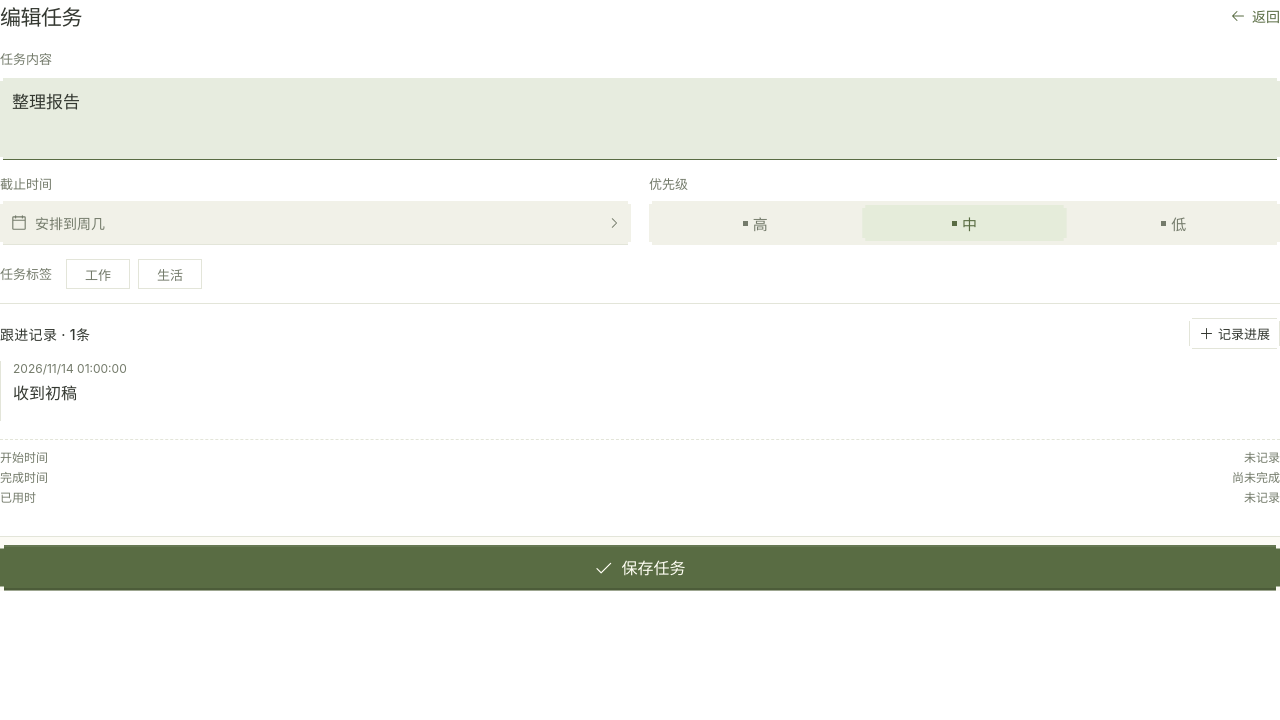
Scenario: appends timestamped steps without replacing previous content
Expected: the element labelled "跟进记录" shows "收到初稿", [13,383,77,403]
Step 1. Click the button "记录进展" → (1234, 334), box [1189,318,1279,349]
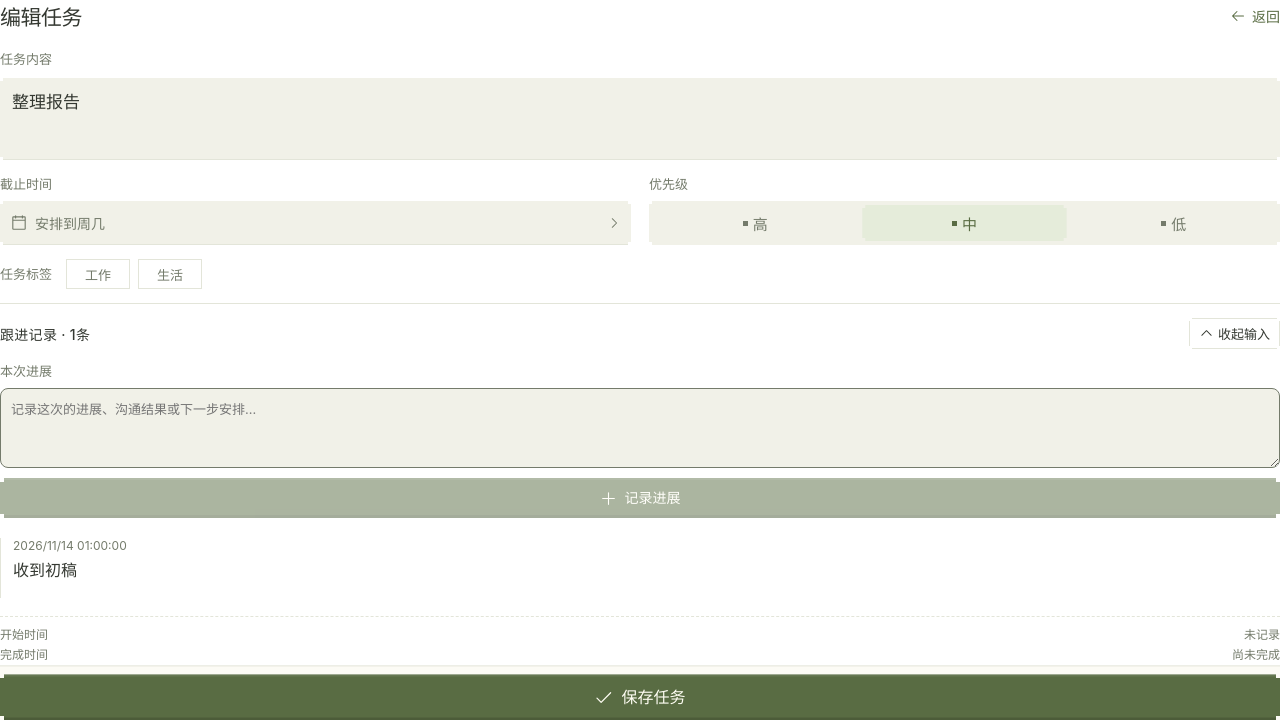
Step 2. Type "  补齐数据  " into the text box labelled "本次进展" → (640, 428), box [0,388,1279,468]
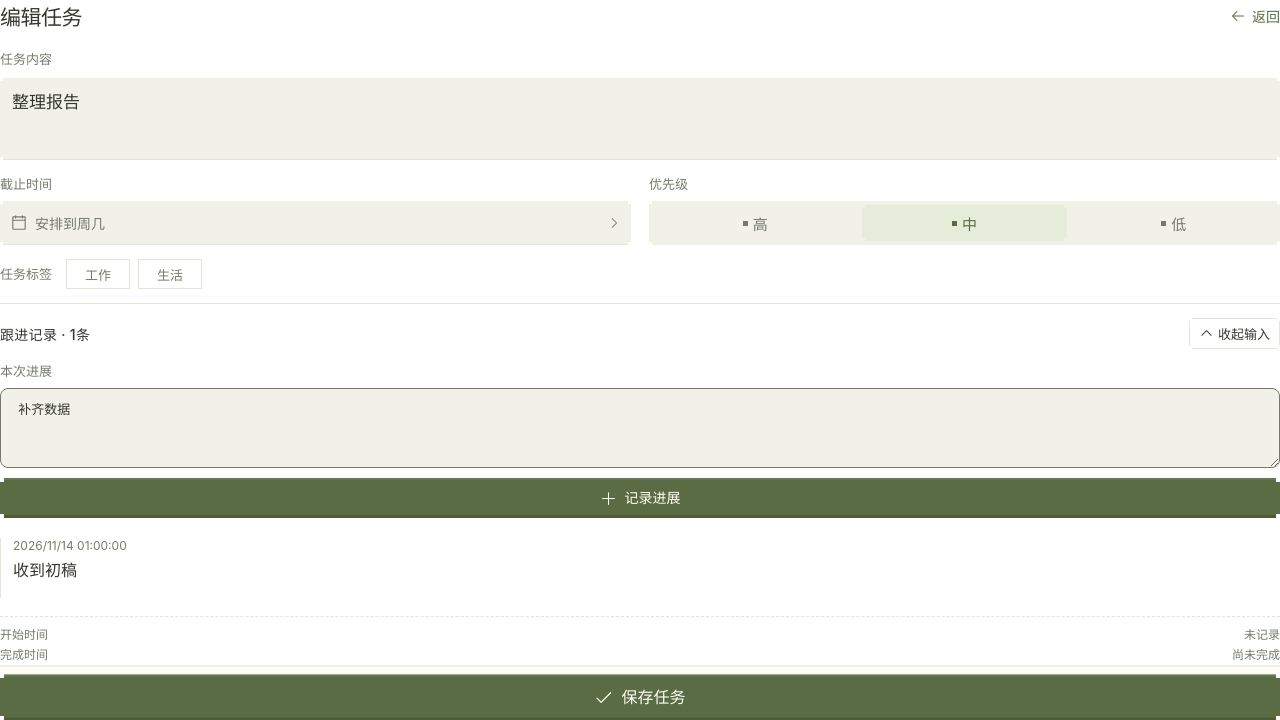
Step 3. Click the button "记录进展" → (640, 498), box [0,478,1279,518]
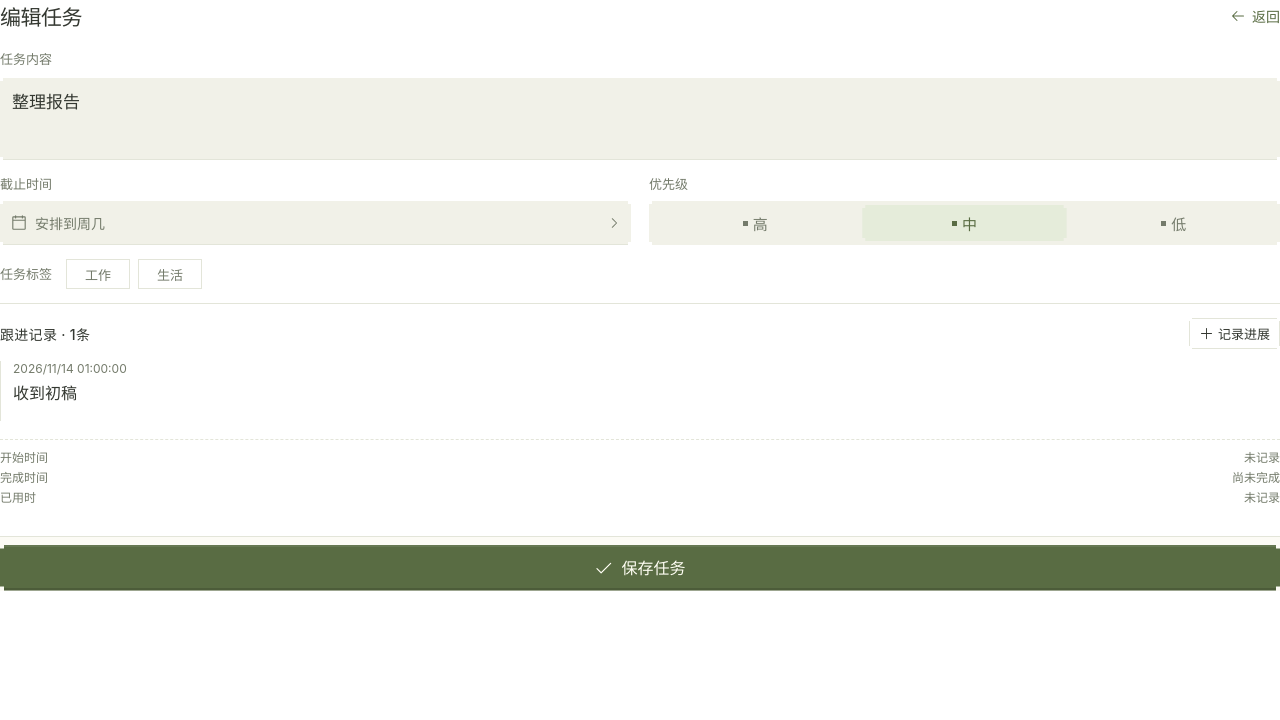
Expected: the element labelled "跟进记录" shows "收到初稿", [13,383,77,403]
Now the label labelled "本次进展" is gone
